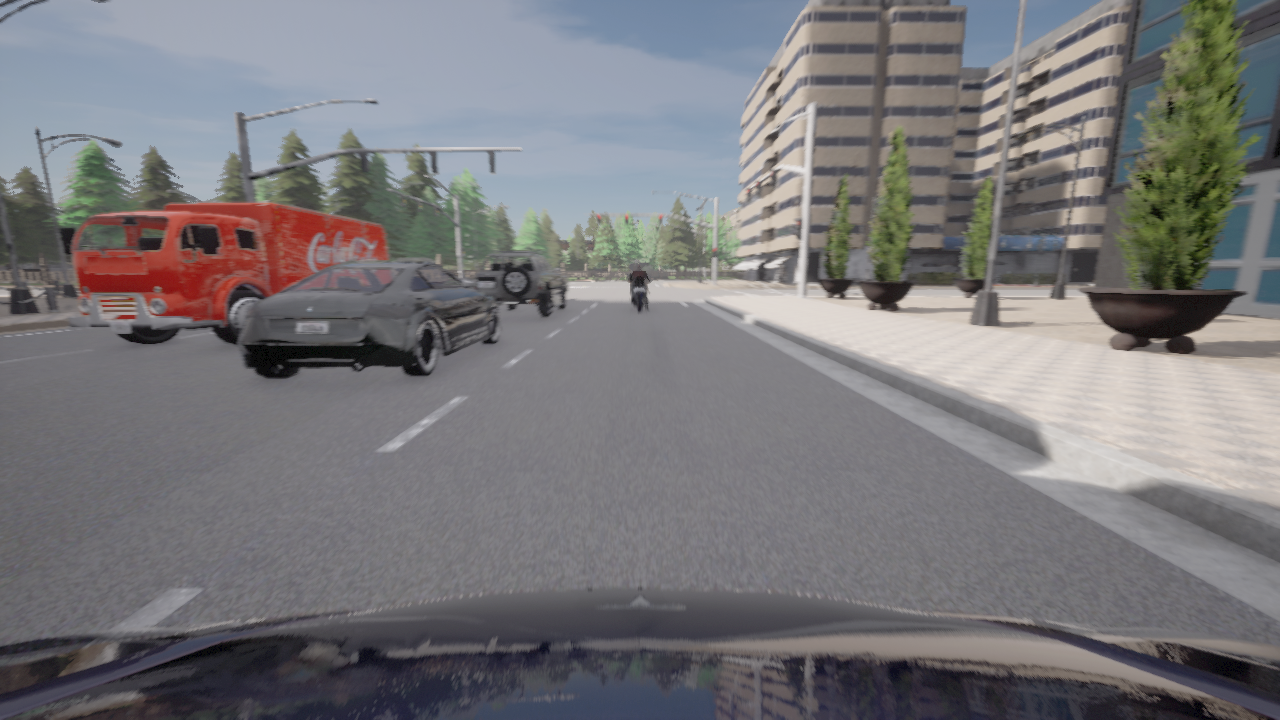cyclist: (0, 588, 1279, 719), (59, 201, 388, 344), (238, 261, 502, 377), (474, 250, 568, 317), (627, 274, 651, 311)
